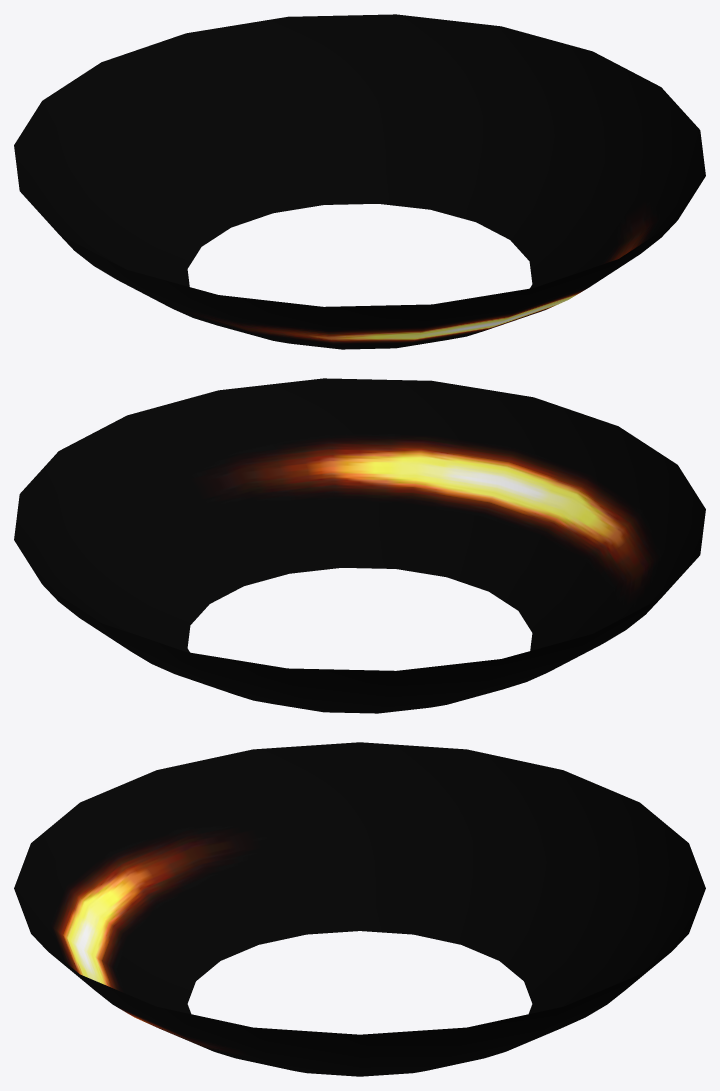
The model's file is 0220_baoqi_M_01.glb.
The picture shows the model from 3 angles, top to bottom: view 1: azimuth 30°, elevation 25°; view 2: azimuth 150°, elevation 25°; view 3: azimuth 270°, elevation 25°; orthographic projection.
Size of the model in its own units: 2.2 by 0.4049 by 2.2.
1 material, 1 textured.
